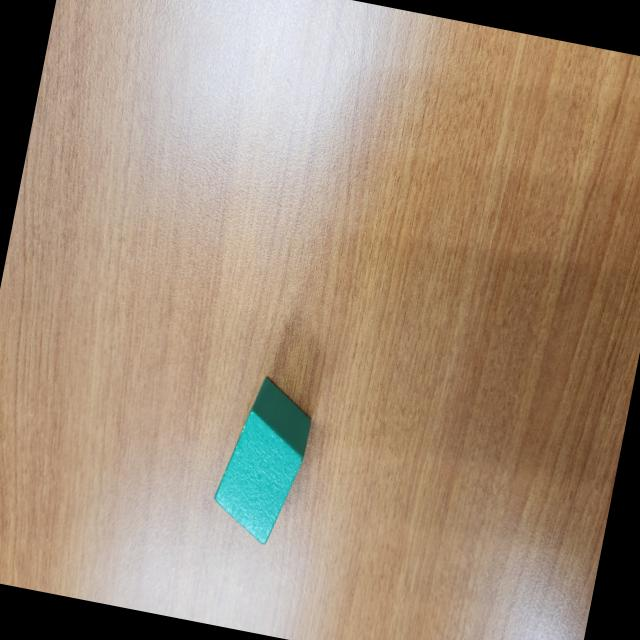green: (206, 372, 318, 550)
